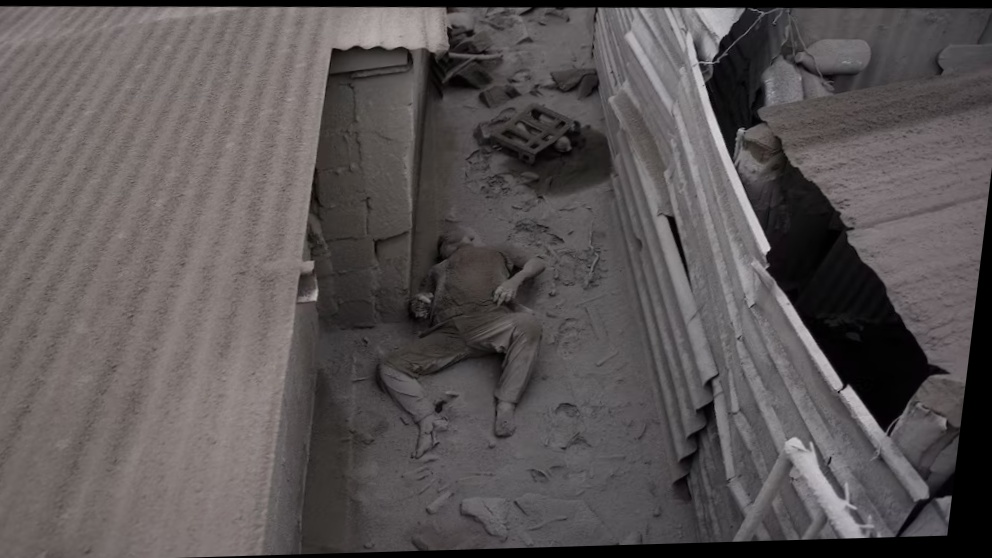Korban: (360, 220, 560, 464)
